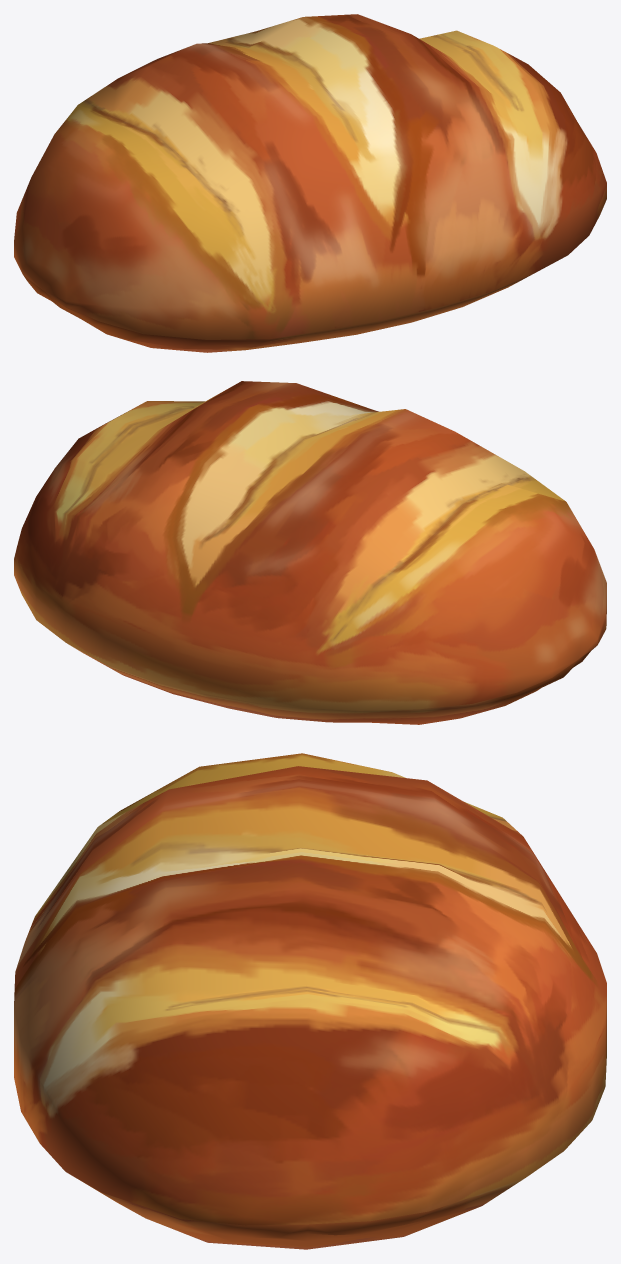
File: bread.obj
3 views of the same model, one above another, from view 1: azimuth 30°, elevation 25°; view 2: azimuth 150°, elevation 25°; view 3: azimuth 270°, elevation 25° (orthographic). The views are drawn at different scales.
Parts seen in each view (by area): view 1: Sphere; view 2: Sphere; view 3: Sphere.
Part boxes in pixels (<box>): Sphere: <box>14,14,606,352</box>; Sphere: <box>14,381,606,724</box>; Sphere: <box>14,753,606,1249</box>.
Size of the model in its own units: 1.95 by 0.8458 by 1.41.
